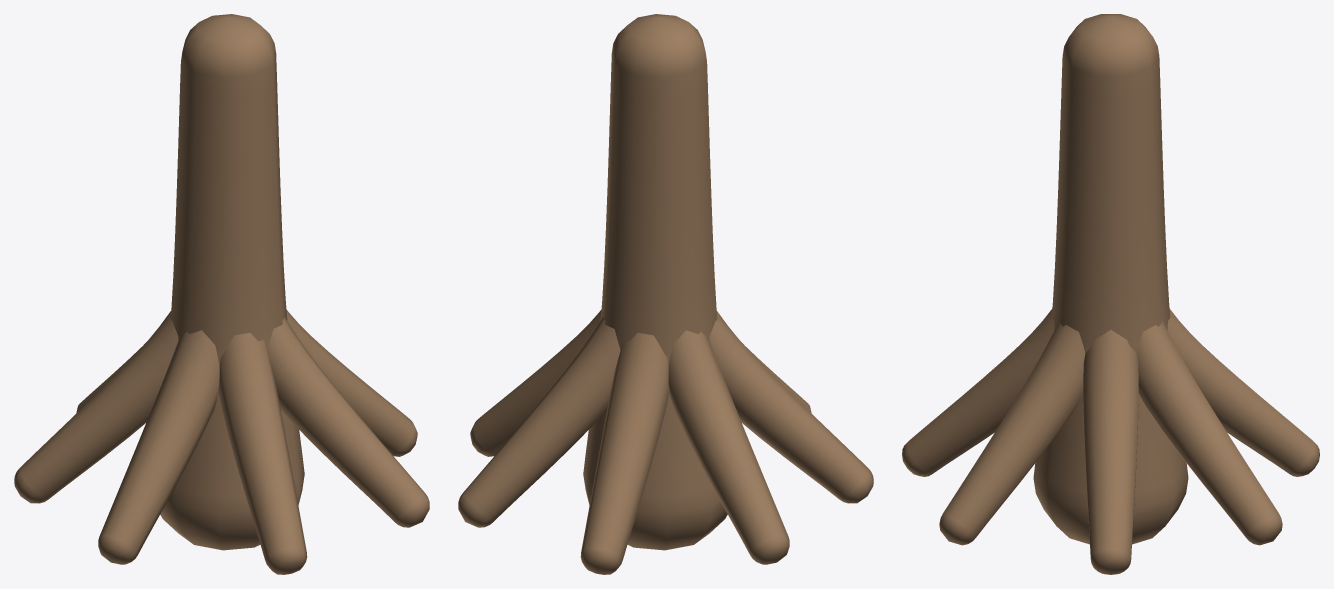
The model's file is rainforest-and-jungle-fauna-buttress-root-trunk-base-e78e7277__21694.glb.
3 views of the same model, side by side, from view 1: azimuth 30°, elevation 25°; view 2: azimuth 150°, elevation 25°; view 3: azimuth 270°, elevation 25° (orthographic).
Parts seen in each view (by area): view 1: buttress-root-trunk-base_0; view 2: buttress-root-trunk-base_0; view 3: buttress-root-trunk-base_0.
Boxes of the visible parts, <box> form: buttress-root-trunk-base_0: <box>14,14,429,574</box>; buttress-root-trunk-base_0: <box>458,14,873,574</box>; buttress-root-trunk-base_0: <box>902,14,1319,574</box>.
Size of the model in its own units: 1.95 by 2.77 by 2.
